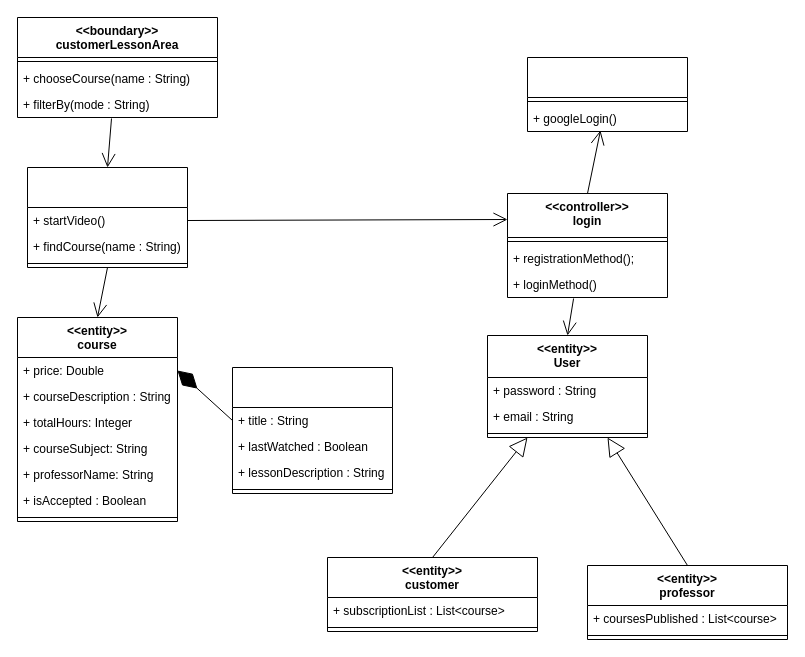
The diagram is 805 pixels wide and 657 high, and some of its shapes have lost their labels. The shapes that lost their labels are listed below. From the top down, each one's box as (x1, y1, x2, y2) in pixels, then its label:
(526, 56, 688, 132): <<boundary>> googleLogin
(26, 166, 188, 268): <<controller>> watchLessons
(232, 366, 392, 494): <<entity>> lesson
